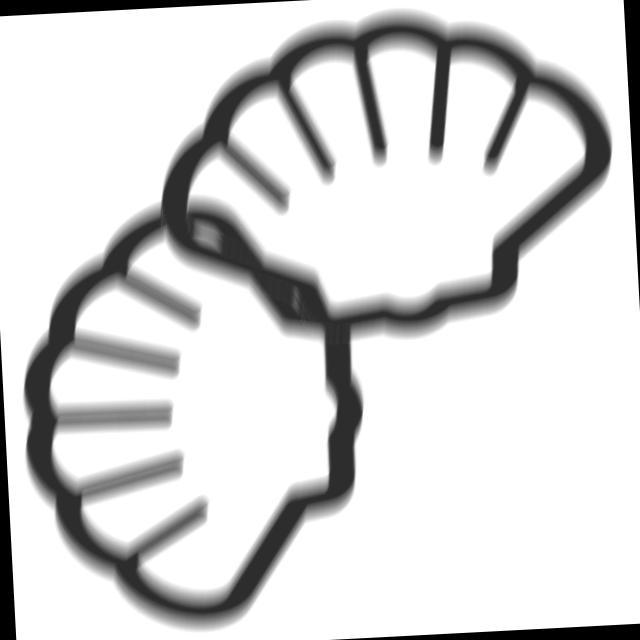shell: (137, 1, 631, 362), (5, 182, 387, 640)
